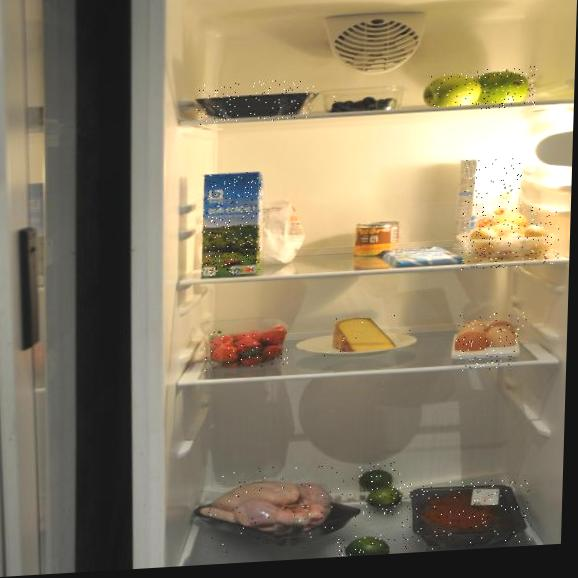apple: (476, 66, 537, 110), (429, 70, 477, 107)
cheese: (322, 314, 411, 370)
chicken: (205, 462, 360, 554)
eggs: (461, 205, 560, 270), (455, 311, 527, 372)
lime: (348, 461, 403, 518), (336, 534, 396, 557)
meat: (401, 477, 533, 551), (196, 78, 315, 125)
milk: (200, 171, 263, 279), (462, 157, 522, 259)
olive: (321, 78, 403, 113)
tomatoes: (204, 326, 289, 371)
